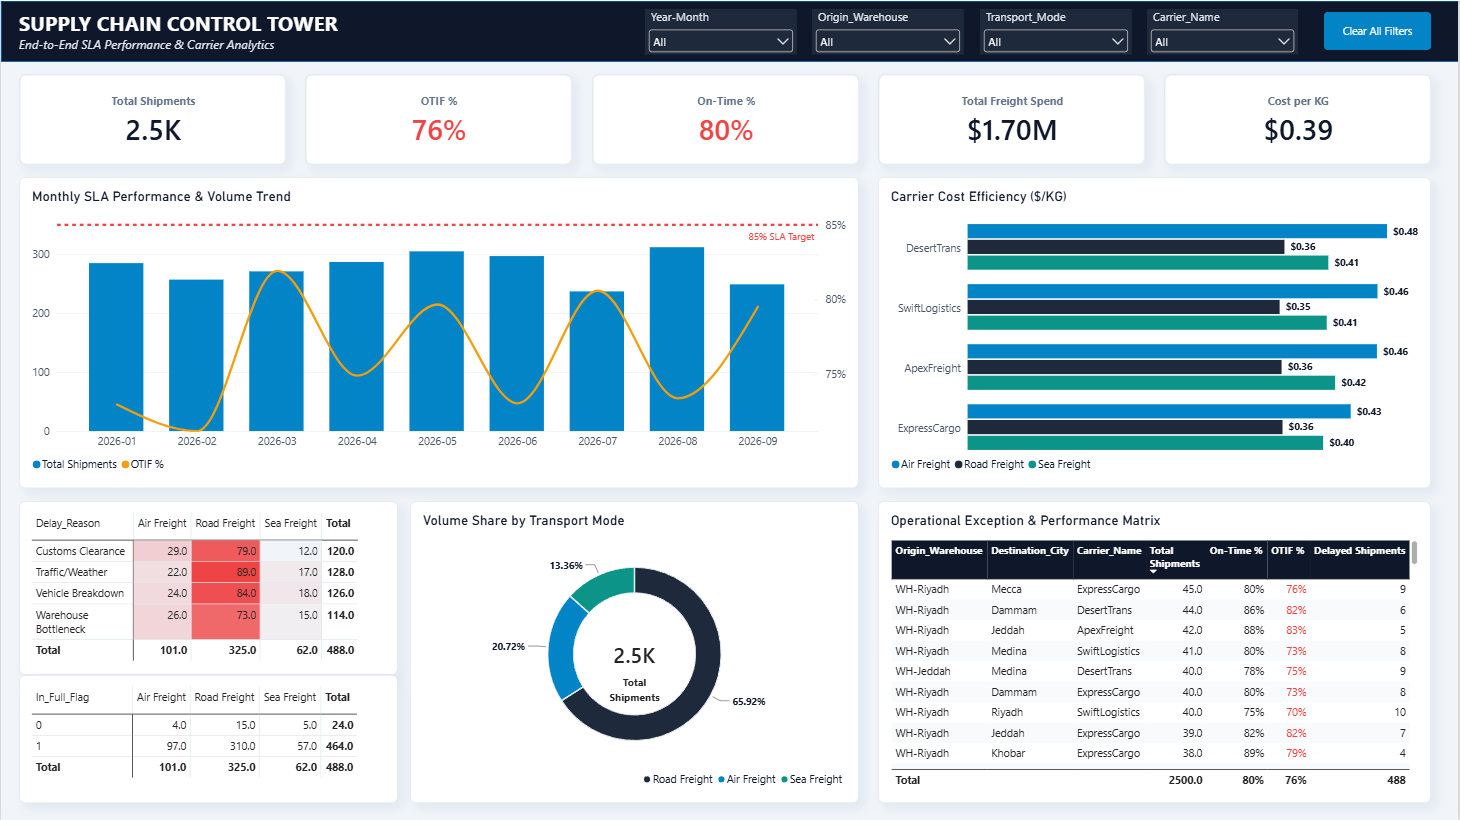

What the dashboard file says about the page in this screenshot:
{"tool":"powerbi","page":{"name":"Executive Overview","canvas":[1920,1080],"ordinal":0},"visuals":[{"type":"shape","box":[0,0,1920.3,80],"z":0},{"type":"textbox","box":[23.7,10.5,650.6,69.8],"z":1000},{"type":"cardVisual","fields":{"Data":["_Measures.Total Shipments"]},"box":[24,96,352,120],"z":2000},{"type":"cardVisual","fields":{"Data":["_Measures.OTIF %"]},"box":[401,96,352,120],"z":3000},{"type":"cardVisual","fields":{"Data":["_Measures.On-Time %"]},"box":[778,96,352,120],"z":4000},{"type":"cardVisual","fields":{"Data":["_Measures.Total Freight Spend"]},"box":[1155,96,352,120],"z":5000},{"type":"cardVisual","fields":{"Data":["_Measures.Cost per KG"]},"box":[1532,96,352,120],"z":6000},{"type":"lineStackedColumnComboChart","title":"Monthly SLA Performance & Volume Trend","fields":{"Category":["Dim_Date.Year-Month"],"Y":["_Measures.Total Shipments"],"Y2":["_Measures.OTIF %"]},"box":[23.7,231.8,1106.3,409.6],"z":7000},{"type":"clusteredBarChart","title":"Carrier Cost Efficiency ($/KG)","fields":{"Category":["logistics_control_tower_data.Carrier_Name"],"Y":["_Measures.Cost per KG"],"Series":["logistics_control_tower_data.Transport_Mode"]},"box":[1155.1,231.8,728.3,409.6],"z":8000},{"type":"pivotTable","fields":{"Rows":["logistics_control_tower_data.Delay_Reason"],"Columns":["logistics_control_tower_data.Transport_Mode"],"Values":["_Measures.Total Shipments"]},"box":[23.7,658.5,499.2,229.2],"z":9000},{"type":"tableEx","title":"Operational Exception & Performance Matrix","fields":{"Values":["logistics_control_tower_data.Origin_Warehouse","logistics_control_tower_data.Destination_City","logistics_control_tower_data.Carrier_Name","_Measures.Total Shipments","_Measures.On-Time %","_Measures.OTIF %","_Measures.Delayed Shipments"]},"box":[1155.1,658.5,728.3,397.8],"z":10000},{"type":"donutChart","title":"Volume Share by Transport Mode","fields":{"Category":["logistics_control_tower_data.Transport_Mode"],"Y":["_Measures.Total Shipments"]},"box":[538.7,658.5,591.4,397.8],"z":11000},{"type":"pivotTable","fields":{"Columns":["logistics_control_tower_data.Transport_Mode"],"Values":["_Measures.Total Shipments"],"Rows":["logistics_control_tower_data.In_Full_Flag"]},"box":[23.7,887.7,499.2,168.6],"z":12000},{"type":"textbox","box":[798.1,887.7,72.4,38.2],"z":13000},{"type":"slicer","fields":{"Values":["Dim_Date.Year-Month"]},"box":[848.2,11,200.2,60],"z":14000},{"type":"slicer","fields":{"Values":["logistics_control_tower_data.Origin_Warehouse"]},"box":[1068.8,11,200,60],"z":15000},{"type":"slicer","fields":{"Values":["logistics_control_tower_data.Transport_Mode"]},"box":[1288.8,11,200,60],"z":16000},{"type":"slicer","fields":{"Values":["logistics_control_tower_data.Carrier_Name"]},"box":[1509.4,11,198.9,60],"z":17000},{"type":"actionButton","box":[1742.5,15,140.9,50],"z":18000}]}

Visuals, with their boxes in screenshot pixels (x1, y1, x2, y2), scaled from the page's 1920x1080 canvas onto the 1460x820 screenshot:
shape: x1=0, y1=0, x2=1459, y2=61
textbox: x1=18, y1=8, x2=513, y2=61
cardVisual - _Measures.Total Shipments: x1=18, y1=73, x2=286, y2=164
cardVisual - _Measures.OTIF %: x1=305, y1=73, x2=573, y2=164
cardVisual - _Measures.On-Time %: x1=592, y1=73, x2=859, y2=164
cardVisual - _Measures.Total Freight Spend: x1=878, y1=73, x2=1146, y2=164
cardVisual - _Measures.Cost per KG: x1=1165, y1=73, x2=1433, y2=164
"Monthly SLA Performance & Volume Trend" lineStackedColumnComboChart: x1=18, y1=176, x2=859, y2=487
"Carrier Cost Efficiency ($/KG)" clusteredBarChart: x1=878, y1=176, x2=1432, y2=487
pivotTable - logistics_control_tower_data.Delay_Reason x logistics_control_tower_data.Transport_Mode: x1=18, y1=500, x2=398, y2=674
"Operational Exception & Performance Matrix" tableEx: x1=878, y1=500, x2=1432, y2=802
"Volume Share by Transport Mode" donutChart: x1=410, y1=500, x2=859, y2=802
pivotTable - logistics_control_tower_data.Transport_Mode x _Measures.Total Shipments: x1=18, y1=674, x2=398, y2=802
textbox: x1=607, y1=674, x2=662, y2=703
slicer - Dim_Date.Year-Month: x1=645, y1=8, x2=797, y2=54
slicer - logistics_control_tower_data.Origin_Warehouse: x1=813, y1=8, x2=965, y2=54
slicer - logistics_control_tower_data.Transport_Mode: x1=980, y1=8, x2=1132, y2=54
slicer - logistics_control_tower_data.Carrier_Name: x1=1148, y1=8, x2=1299, y2=54
actionButton: x1=1325, y1=11, x2=1432, y2=49
